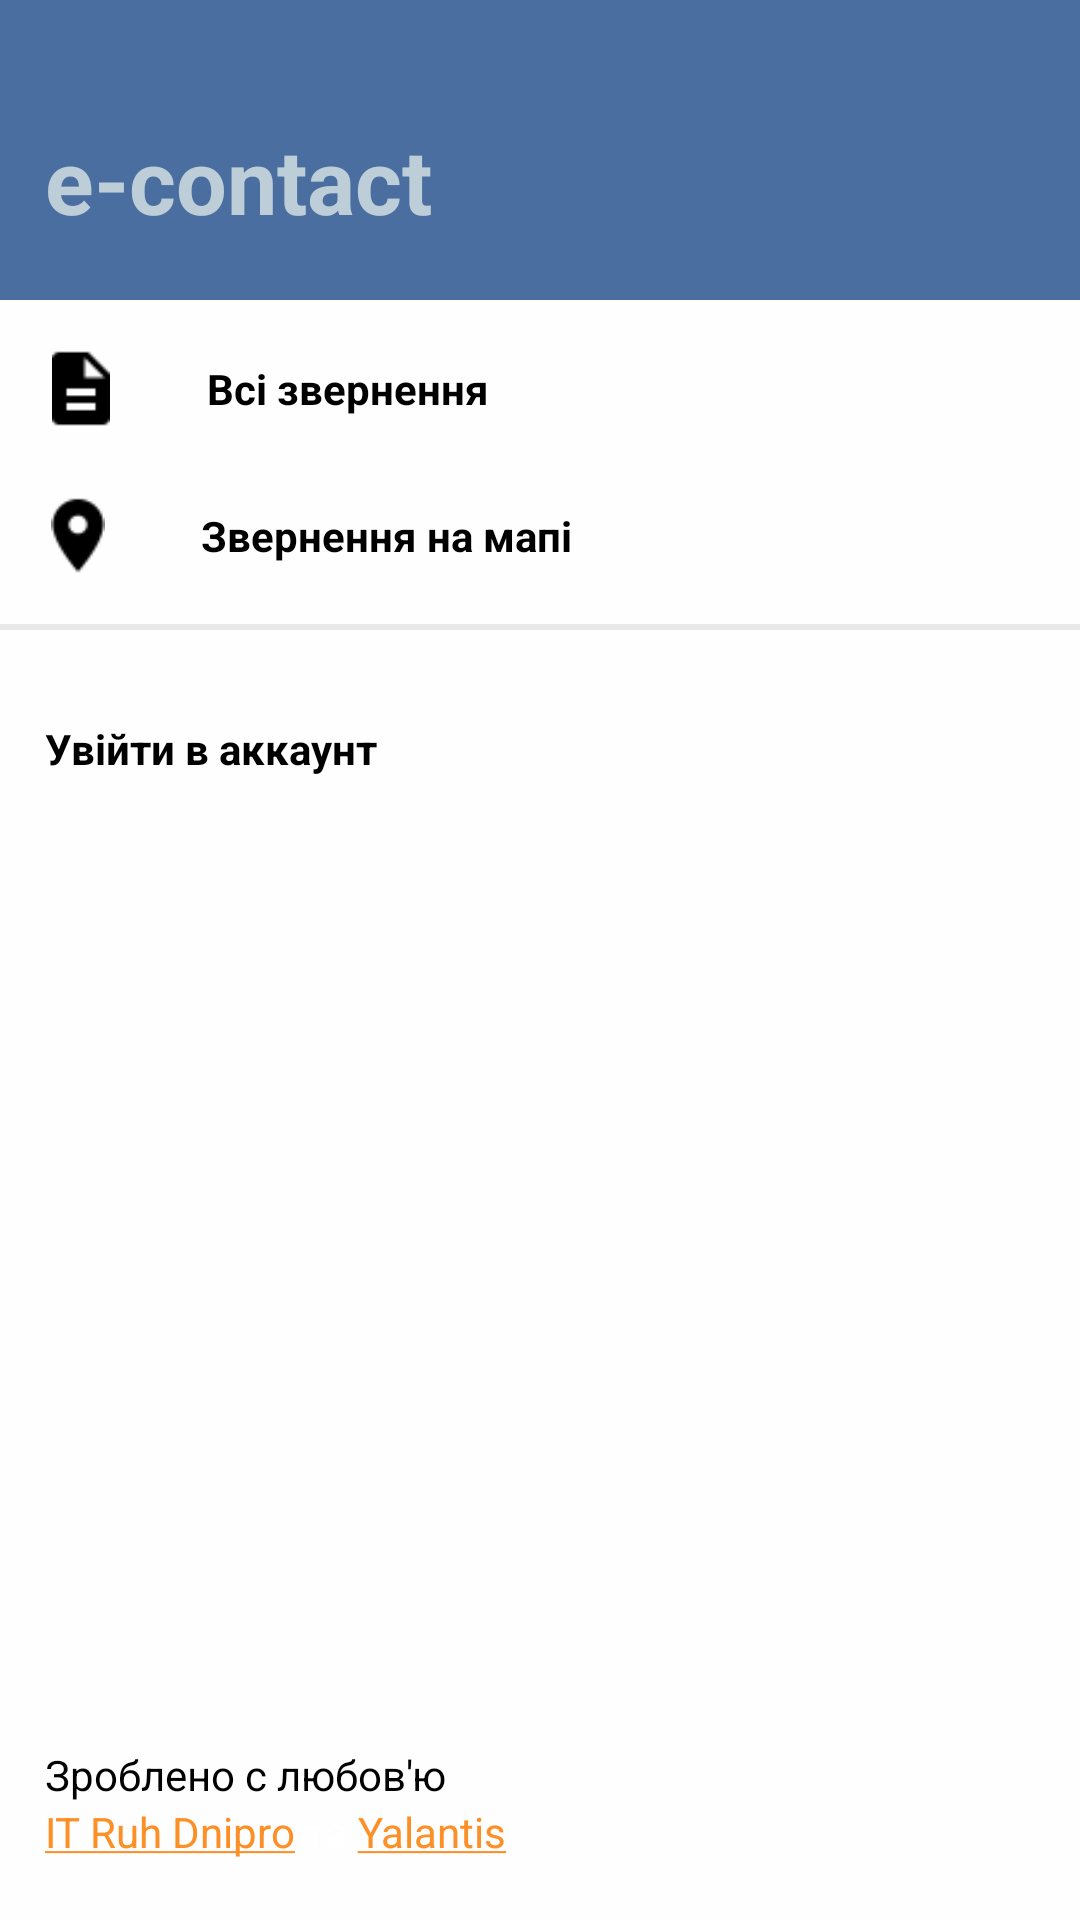

Icons on this 1080 x 1920 Android screen, each with its box as [x1, y1, x2, y2]:
description: [52, 351, 110, 426]
location on: [51, 498, 105, 572]
